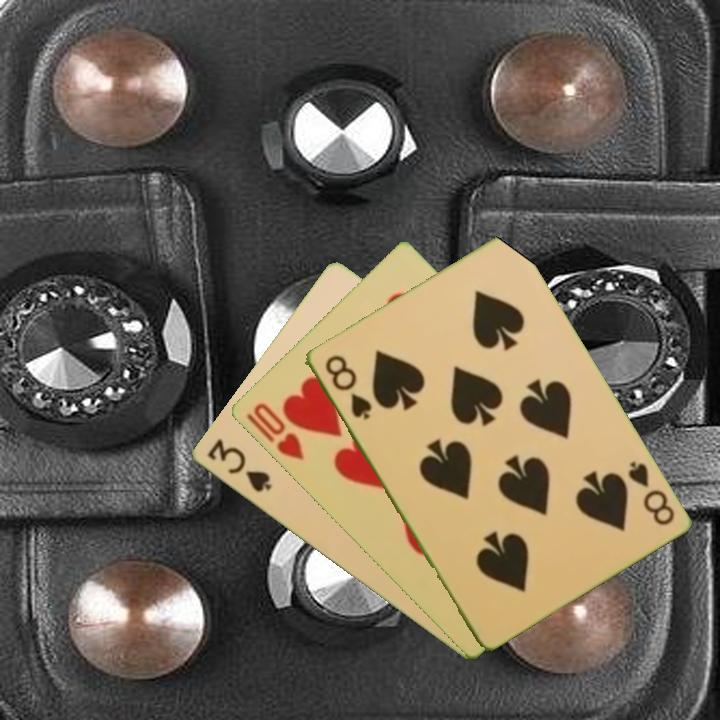10h: (242, 399, 307, 463)
3s: (203, 435, 274, 495)
8s: (623, 457, 677, 529), (321, 351, 374, 423)
